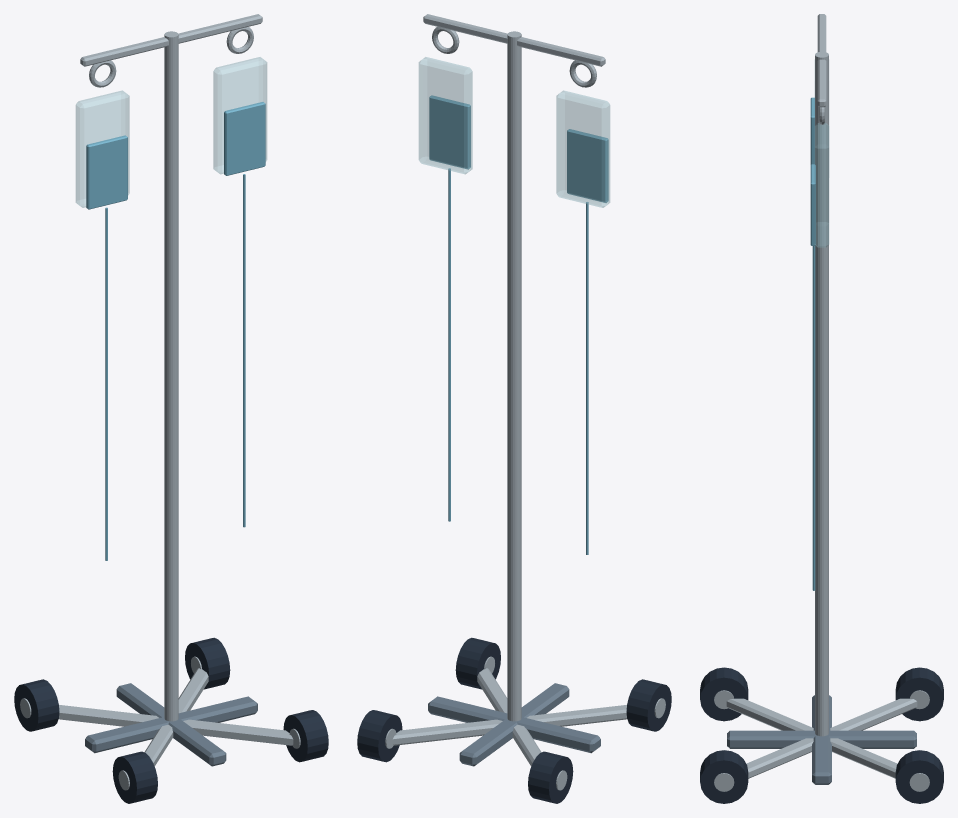
File: medical_03.glb
3 views of the same model, side by side, from view 1: azimuth 30°, elevation 25°; view 2: azimuth 150°, elevation 25°; view 3: azimuth 270°, elevation 25° (orthographic).
Parts seen in each view (by area): view 1: IVPole, Wheel (×4), IVBag (×2), Fluid (×2), IVBase (×2), CasterCrossBrace (×2), Tube (×2), HookRail; view 2: IVBag (×2), IVPole, Wheel (×4), Fluid (×2), IVBase (×2), CasterCrossBrace (×2), Tube (×2), HookRail; view 3: IVPole, Wheel (×4), CasterCrossBrace (×2), IVBase (×2), IVBag, Tube, HookRail, Fluid.
Part boxes in pixels (left/top/right/bottom): IVPole: left=164, top=31, right=178, bottom=721; Wheel (×4): left=14, top=637, right=328, bottom=803; IVBag (×2): left=75, top=57, right=267, bottom=207; Fluid (×2): left=86, top=102, right=265, bottom=209; IVBase (×2): left=85, top=683, right=257, bottom=766; CasterCrossBrace (×2): left=59, top=668, right=293, bottom=766; Tube (×2): left=105, top=174, right=245, bottom=560; HookRail: left=80, top=14, right=262, bottom=66; IVBag (×2): left=418, top=57, right=610, bottom=207; IVPole: left=507, top=31, right=521, bottom=721; Wheel (×4): left=357, top=637, right=671, bottom=803; Fluid (×2): left=429, top=95, right=608, bottom=202; IVBase (×2): left=428, top=683, right=600, bottom=766; CasterCrossBrace (×2): left=392, top=668, right=626, bottom=766; Tube (×2): left=448, top=168, right=588, bottom=554; HookRail: left=423, top=14, right=605, bottom=66; IVPole: left=815, top=51, right=828, bottom=736; Wheel (×4): left=700, top=667, right=943, bottom=803; CasterCrossBrace (×2): left=726, top=698, right=917, bottom=778; IVBase (×2): left=727, top=695, right=916, bottom=784; IVBag: left=814, top=123, right=829, bottom=247; Tube: left=812, top=246, right=815, bottom=590; HookRail: left=817, top=14, right=826, bottom=107; Fluid: left=810, top=164, right=815, bottom=245.
Bounding box in the file's own units: 0.5074 × 1.77 × 0.5564.
